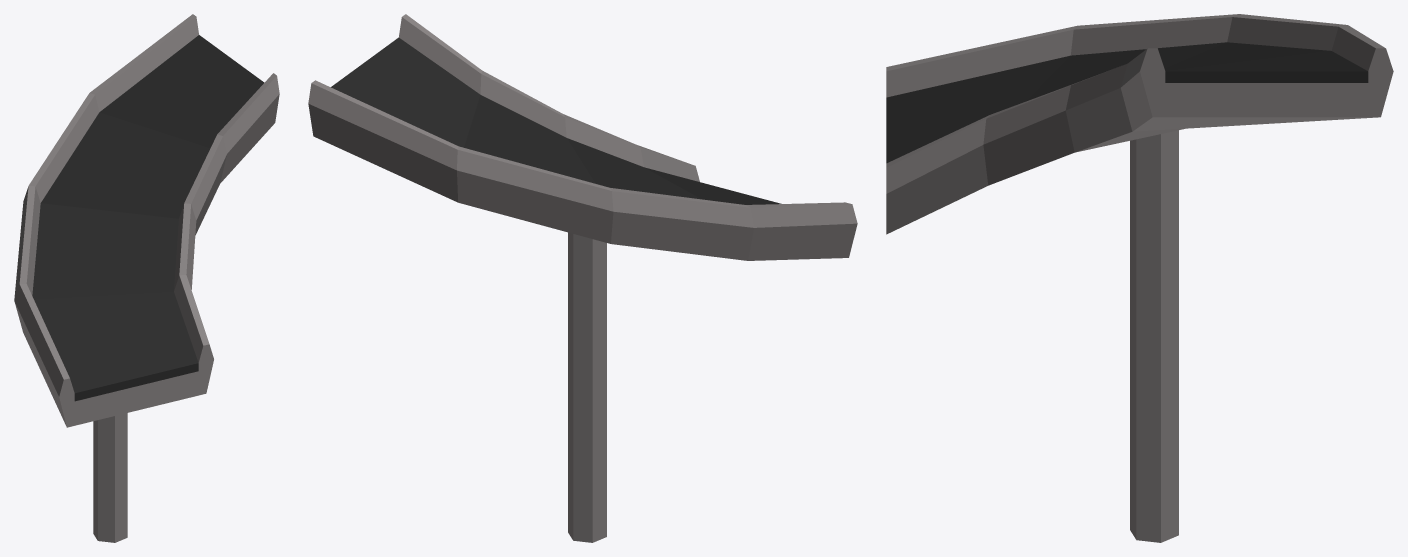
File: belt-moving-curve-up.glb
3 views of the same model, side by side, from view 1: azimuth 30°, elevation 25°; view 2: azimuth 150°, elevation 25°; view 3: azimuth 270°, elevation 25° (orthographic). The views are drawn at different scales.
Visible parts, largest first — view 1: belt-moving-curve-up; view 2: belt-moving-curve-up; view 3: belt-moving-curve-up.
Boxes of the visible parts, x1,y1,x2,y2 form: belt-moving-curve-up: (14, 14, 279, 542); belt-moving-curve-up: (308, 14, 857, 542); belt-moving-curve-up: (886, 14, 1393, 542).
Bounding box in the file's own units: 2 × 2.6 × 2.
1 material, 1 textured.
